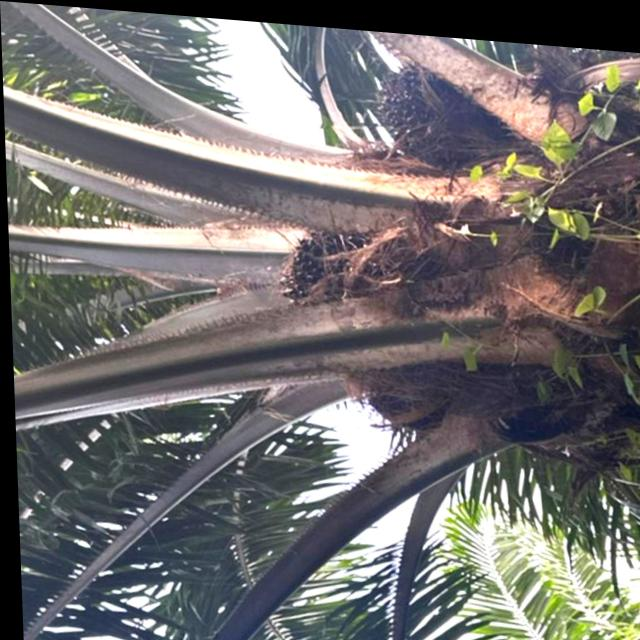almost: (277, 215, 424, 352), (370, 54, 503, 164)
